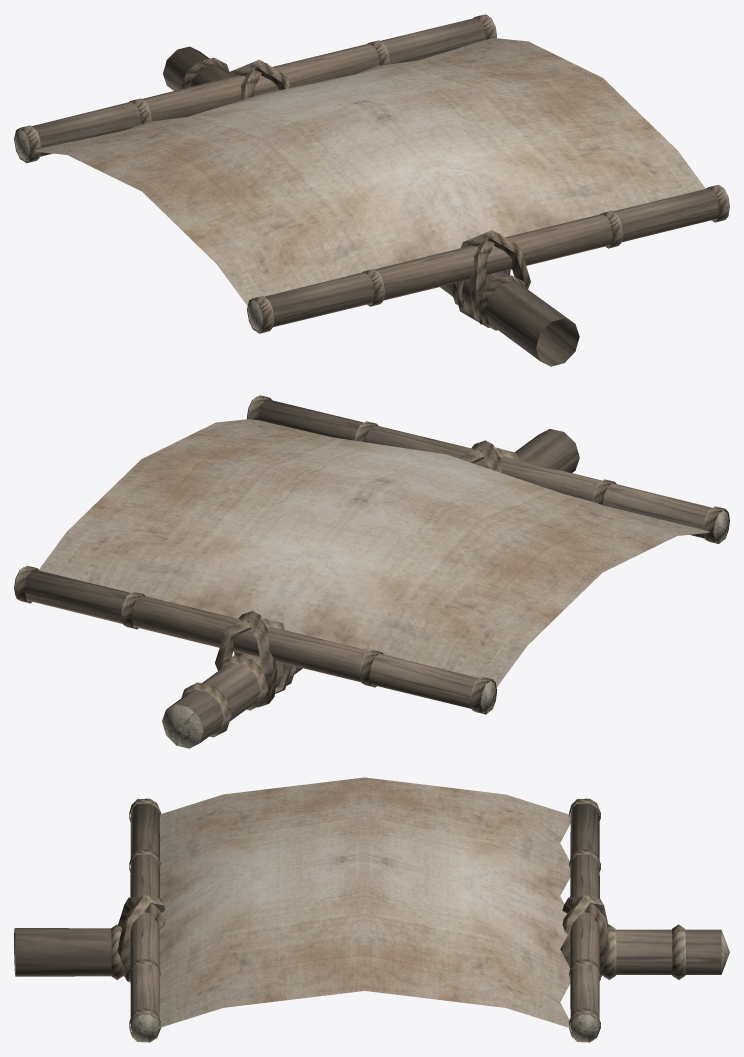
Rendered from Raft_Pole.fbx.
3 views of the same model, one above another, from view 1: azimuth 30°, elevation 25°; view 2: azimuth 150°, elevation 25°; view 3: azimuth 270°, elevation 25° (orthographic). The views are drawn at different scales.
Parts seen in each view (by area): view 1: Raft_Pole; view 2: Raft_Pole; view 3: Raft_Pole.
Boxes of the visible parts, x1,y1,x2,y2 form: Raft_Pole: (14, 14, 729, 366); Raft_Pole: (14, 395, 729, 748); Raft_Pole: (14, 777, 729, 1042).
Size of the model in its own units: 3.68 by 1.02 by 5.1.
